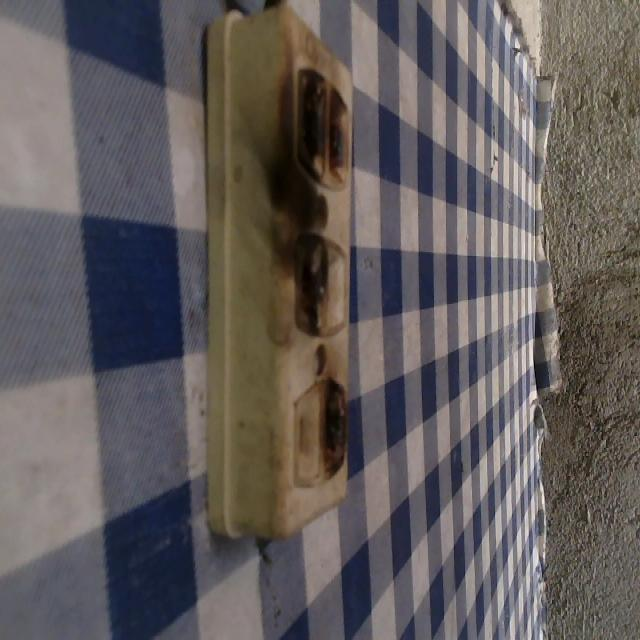-: (277, 54, 357, 198), (277, 227, 326, 336), (315, 374, 352, 482)
